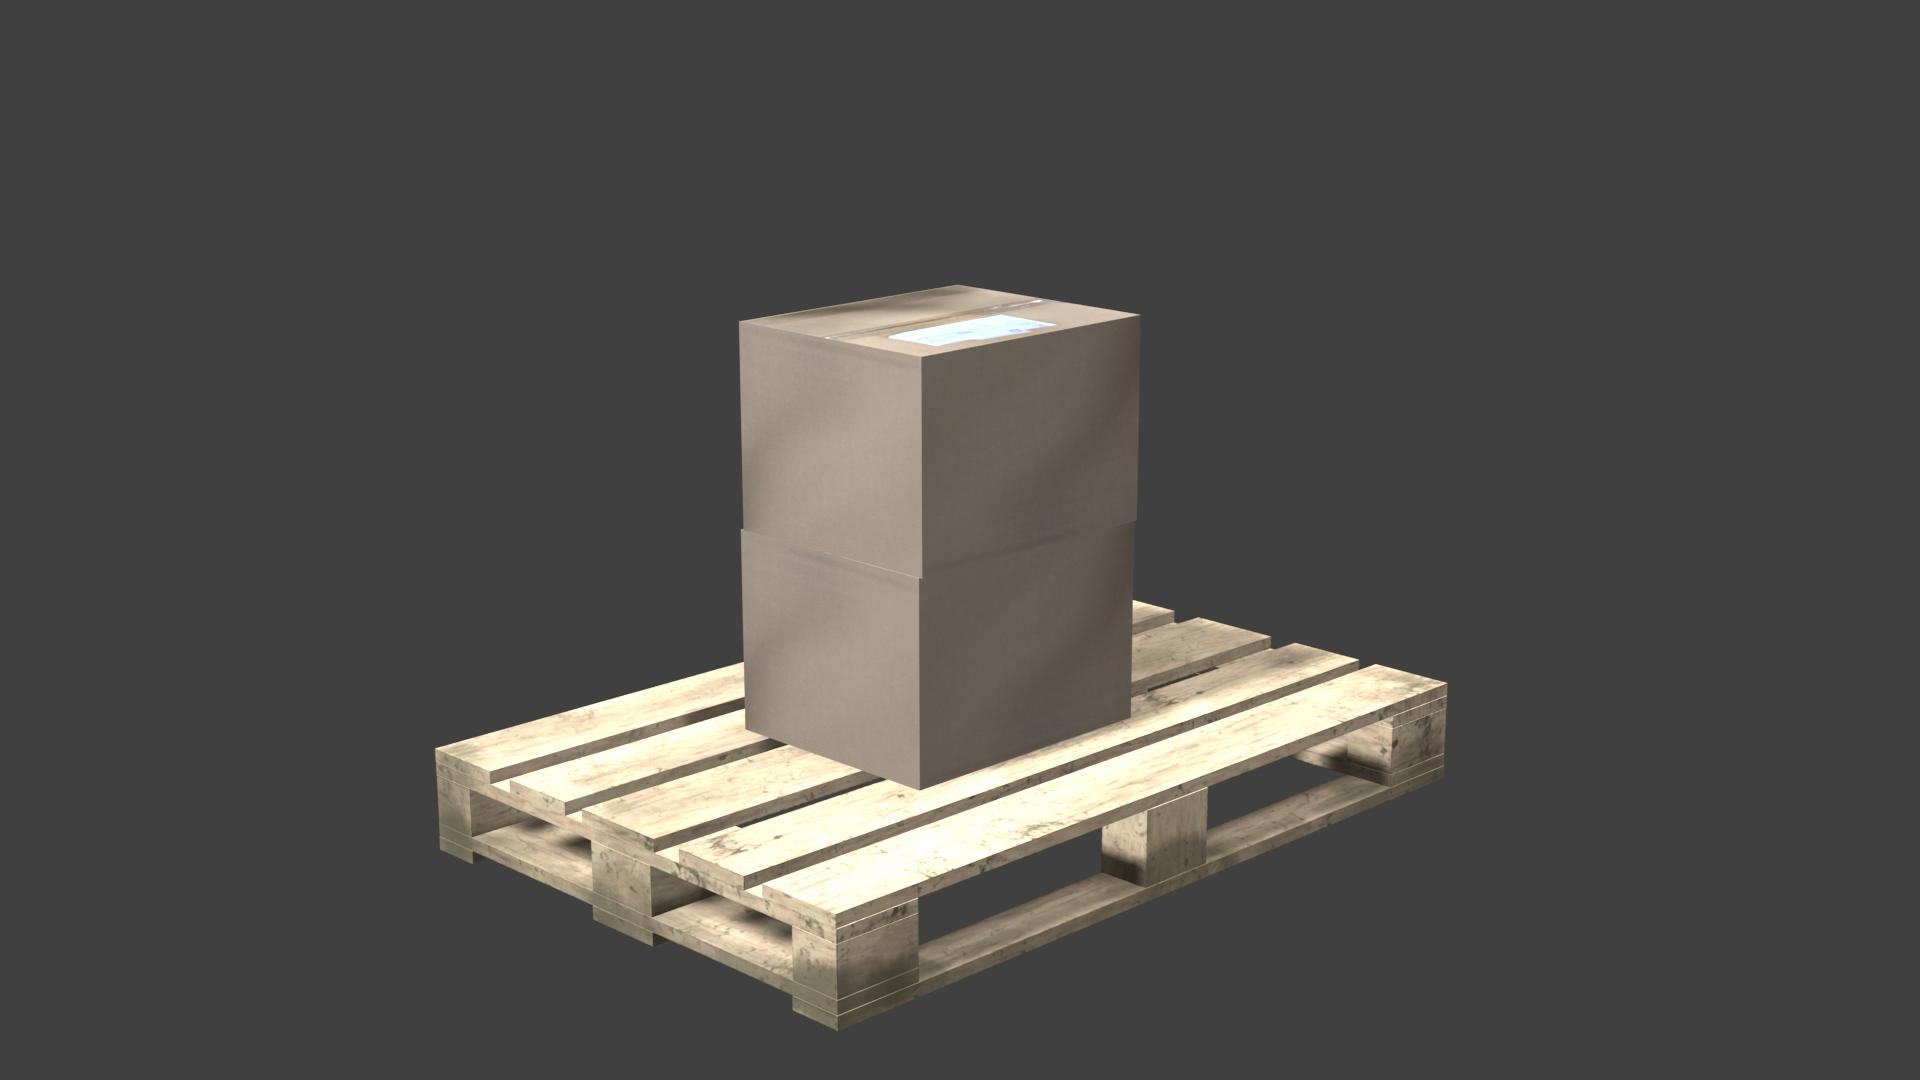group_box_left: (740, 313, 1141, 579), (741, 522, 1135, 791)
group_box_top: (740, 284, 1138, 357)
palet: (434, 600, 1449, 1034)
